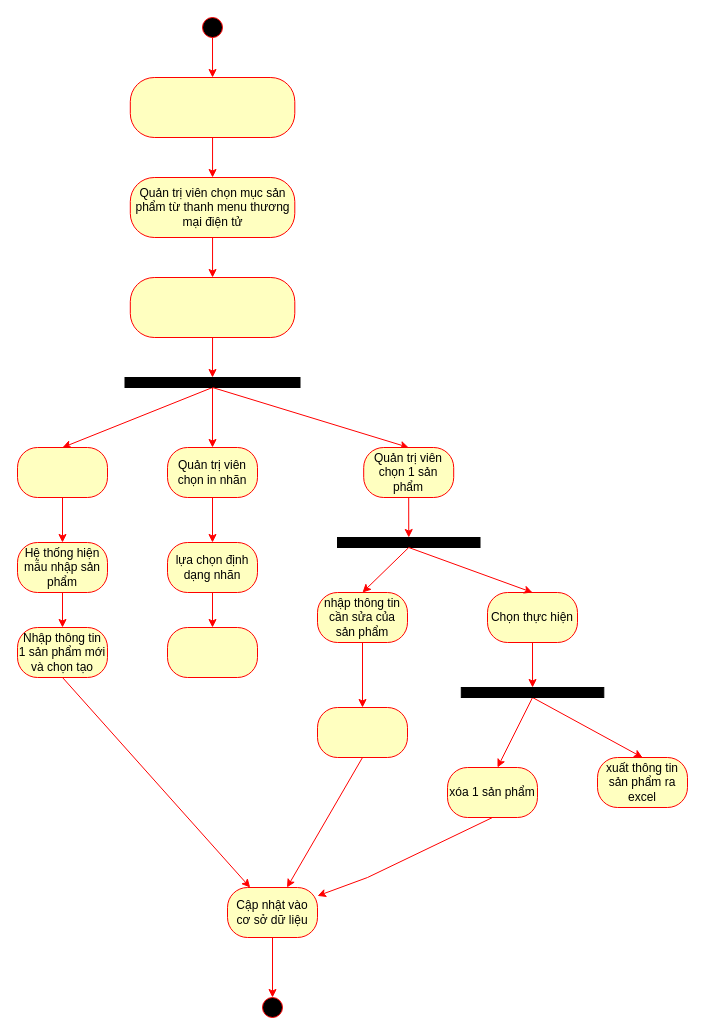
This 705x1035 diagram has some shape labels left out. Here are the shapes that lost their labels. From the top down, the box of each, then its label:
(129, 76, 295, 138): Đăng nhập trang chủ với quyền quản trị
(129, 276, 295, 338): Hiện tất cả các sản phẩm
(16, 446, 108, 498): Quản trị viên chọn tạo
(166, 626, 258, 678): Xuất ra file PDF
(316, 706, 408, 758): chọn tạo
